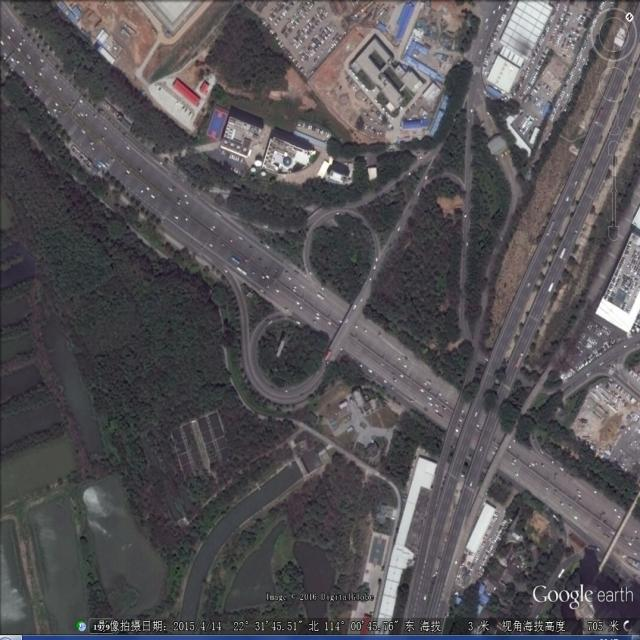overpass: (222, 141, 443, 415)
